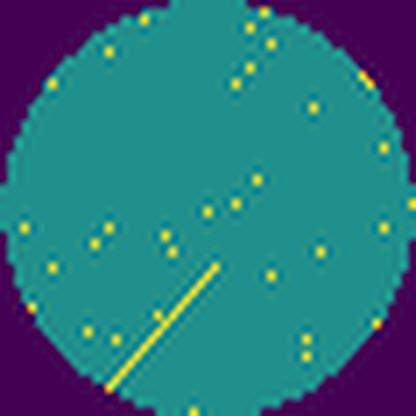Scratch: (104, 258, 226, 393)
